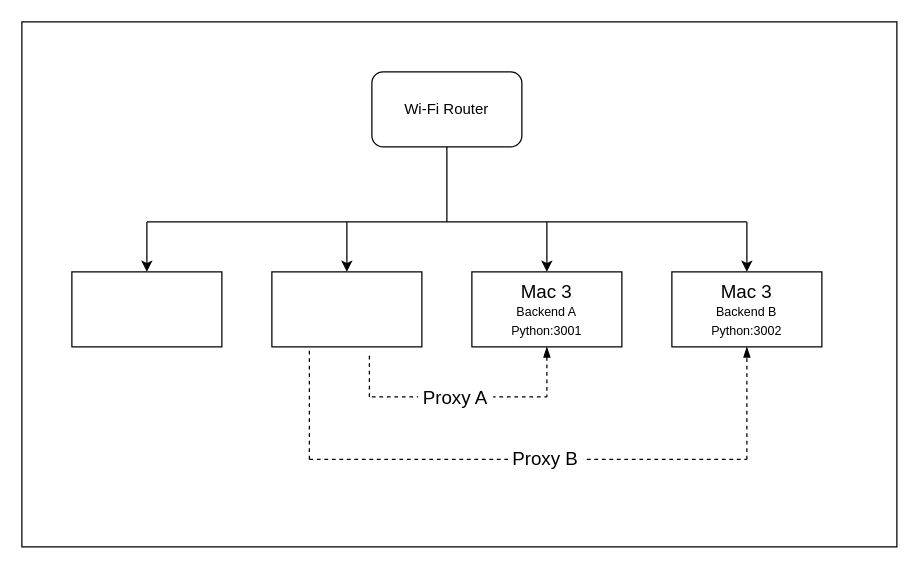
The diagram is 919 pixels wide and 569 high, and some of its shapes have lost their labels. Each missing label, with the centre of its shape:
"Mac 1 Dns" goes at [146,309].
"Mac 2 Edge + Load Balancer" goes at [346,309].
